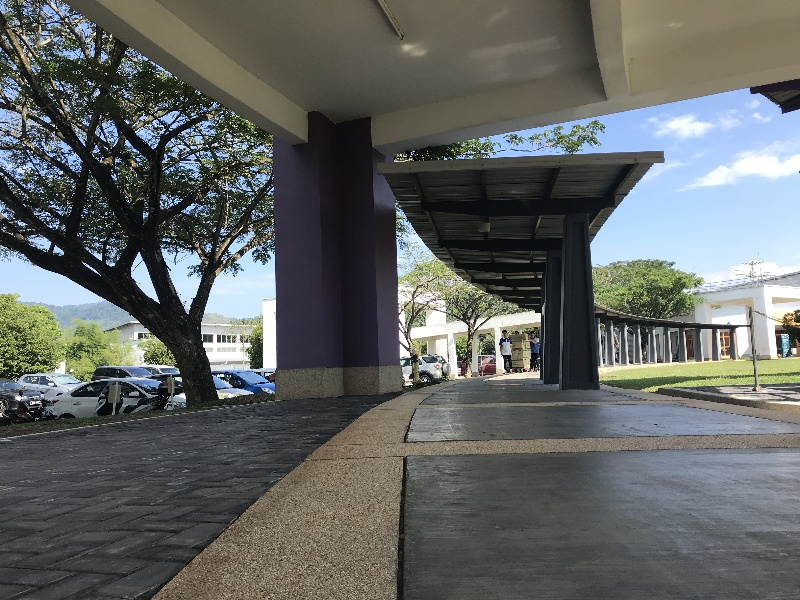Block D corridor: (1, 2, 792, 593)
pillar: (236, 122, 419, 402), (540, 208, 621, 408)
